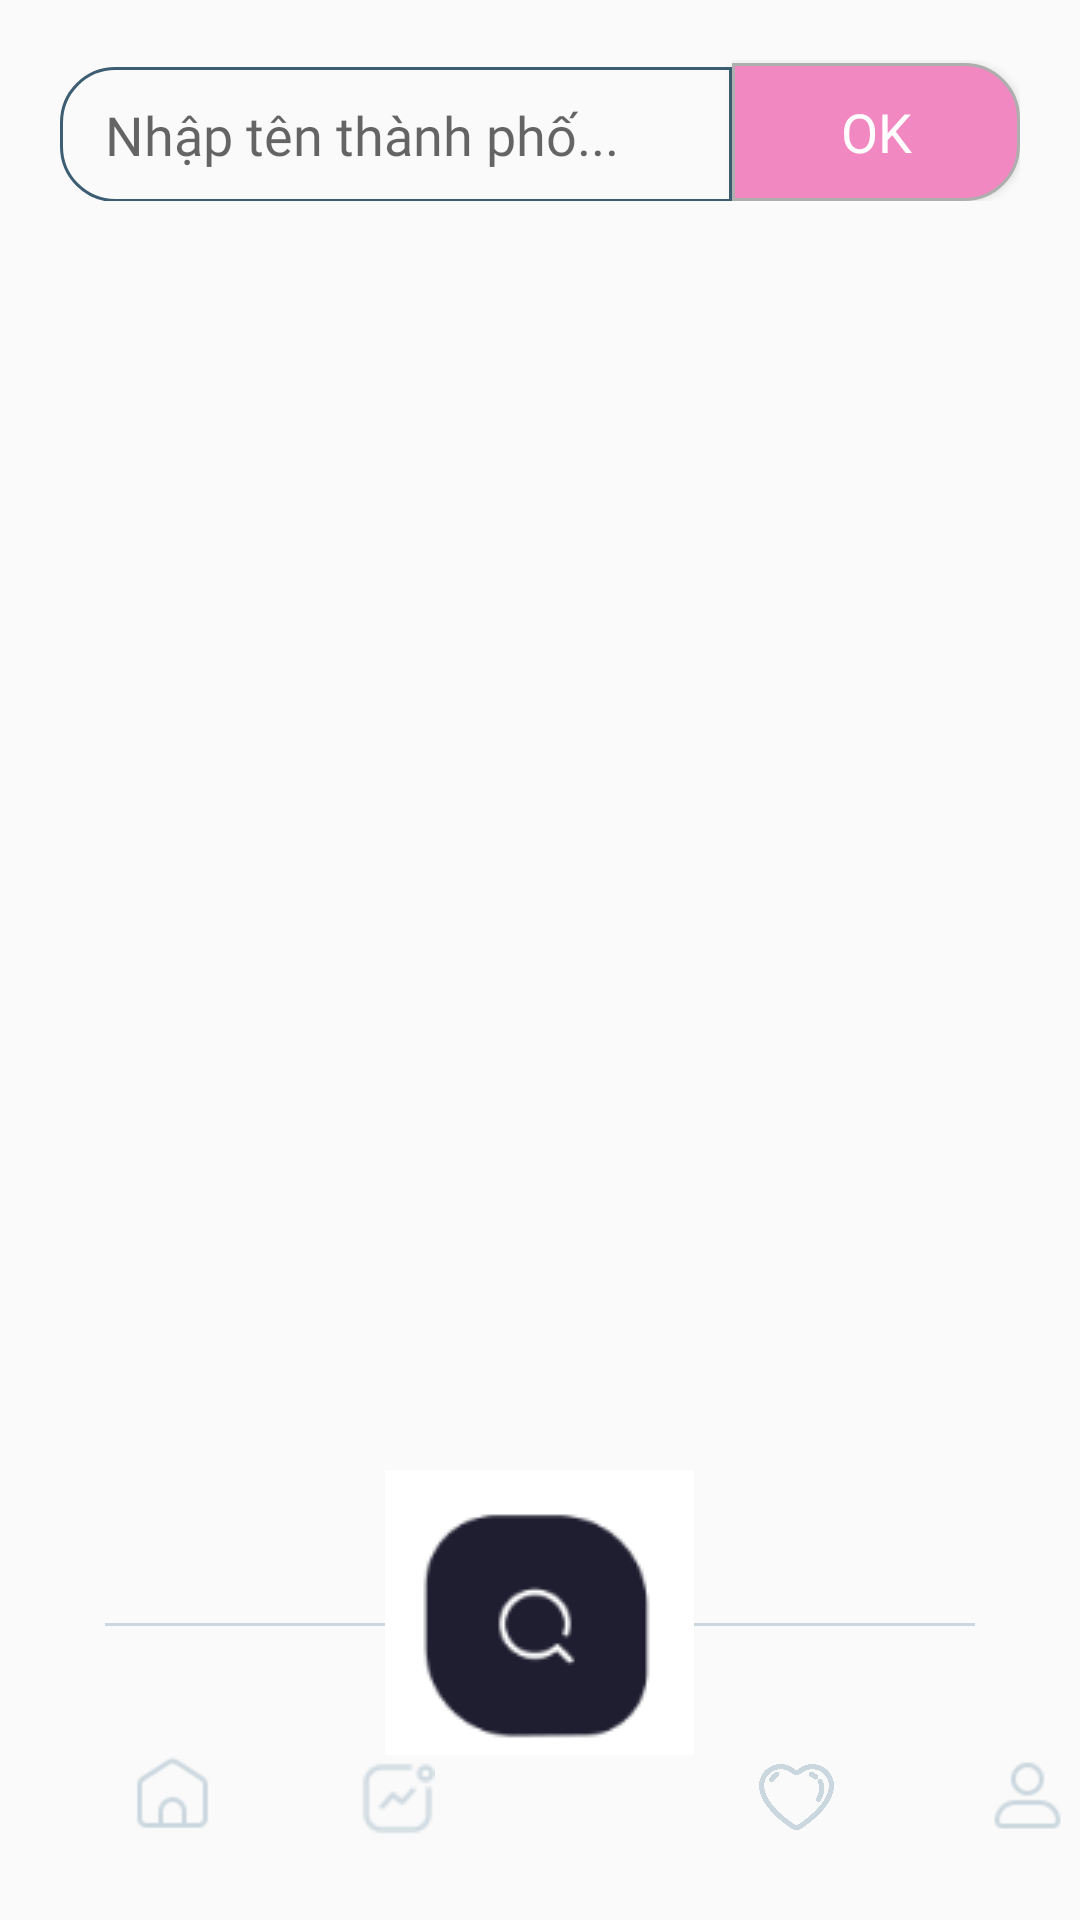

Where icons sit on this 1080 × 1920 app screen, as (x1, y1, x2, y2):
favorite: (759, 1764, 834, 1830)
find: (423, 1514, 649, 1738)
home: (137, 1759, 208, 1828)
line chart: (364, 1765, 435, 1832)
userinfo: (995, 1763, 1060, 1828)
